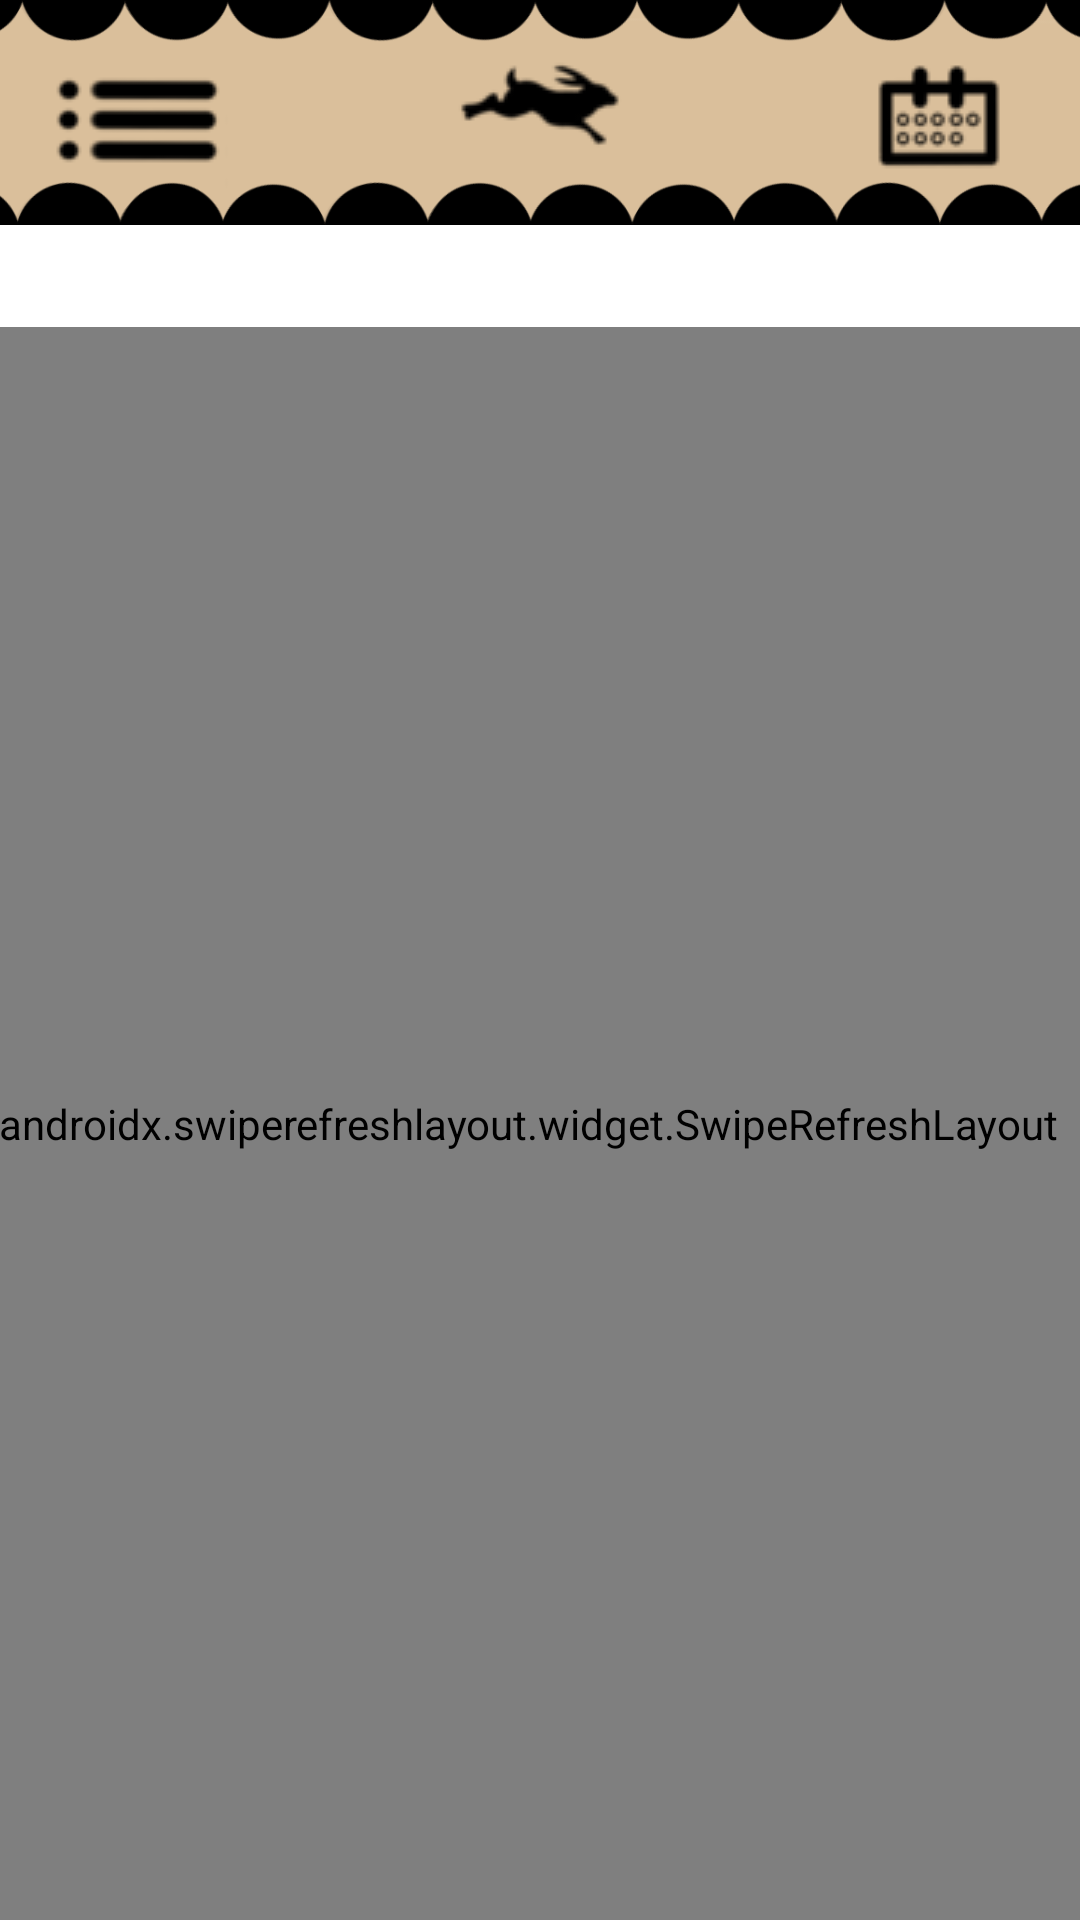

Icon bounding boxes for this 1080w x 1920h phone screenshot, format (x1, y1, x2, y2):
calendar: (878, 65, 1000, 167)
menu: (57, 80, 217, 162)
